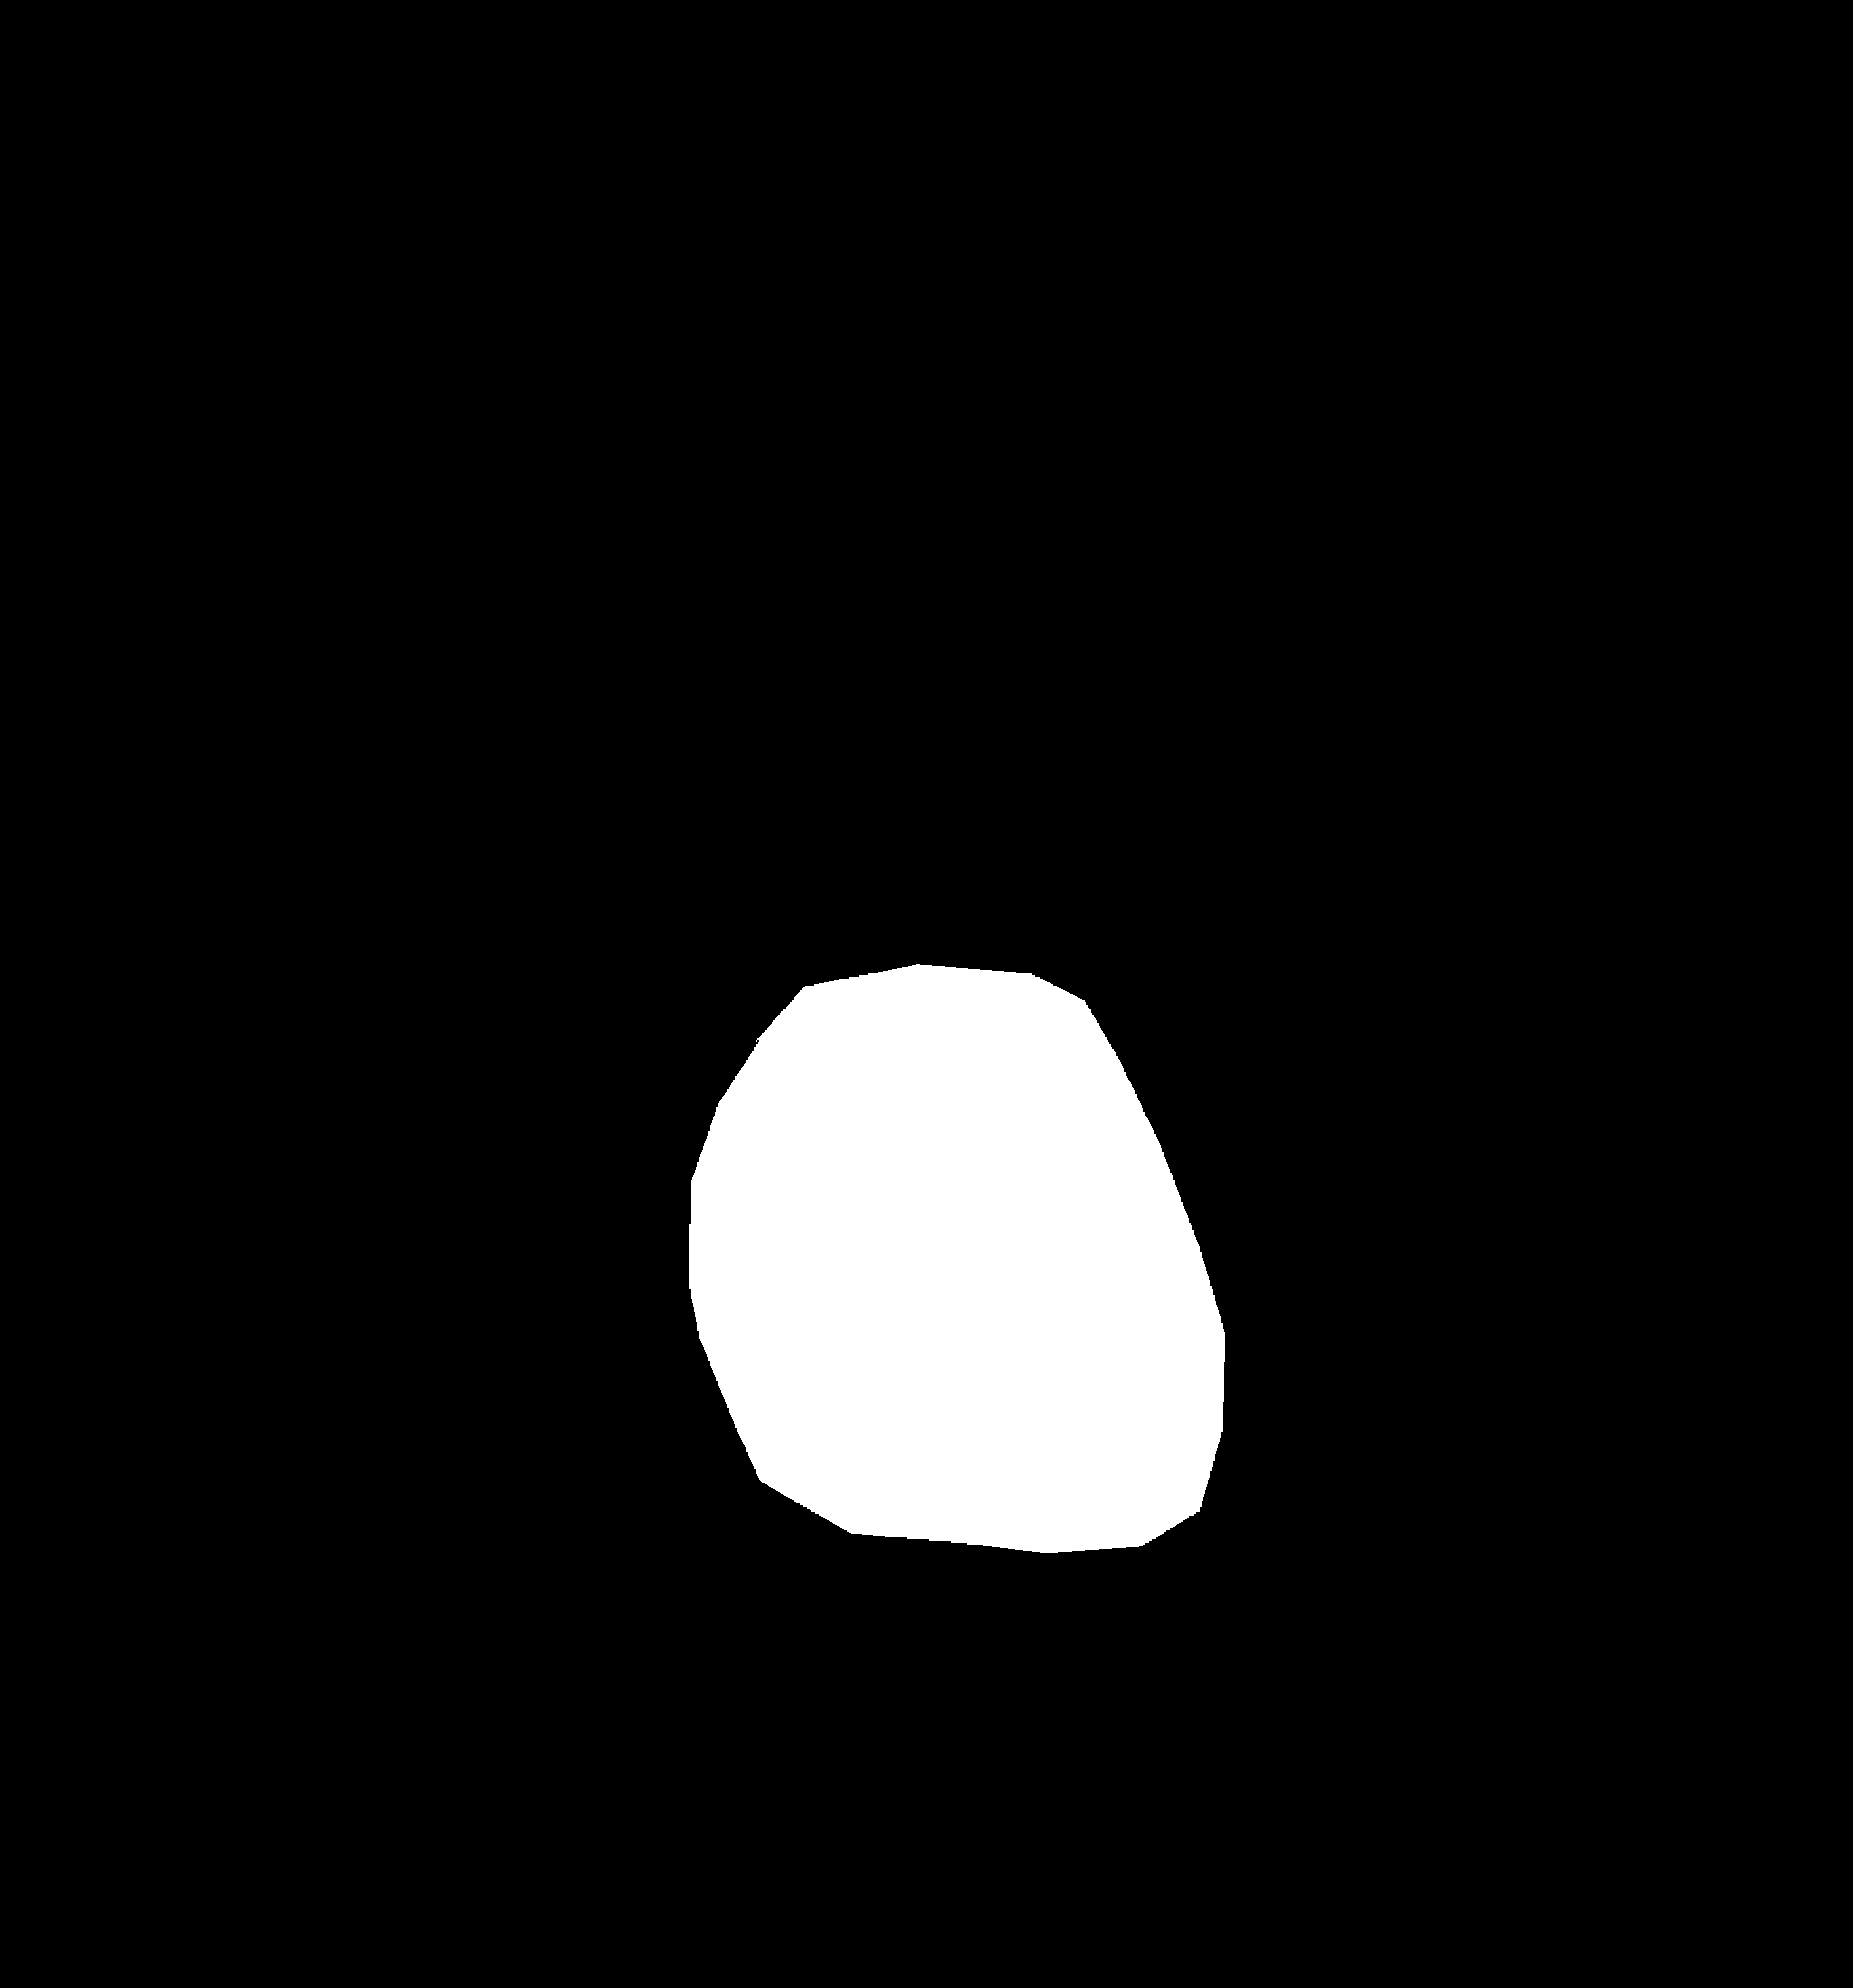heart: (683, 1002, 1230, 1579)
left_lung: (211, 308, 832, 1789)
right_lung: (1005, 308, 1618, 1821)
